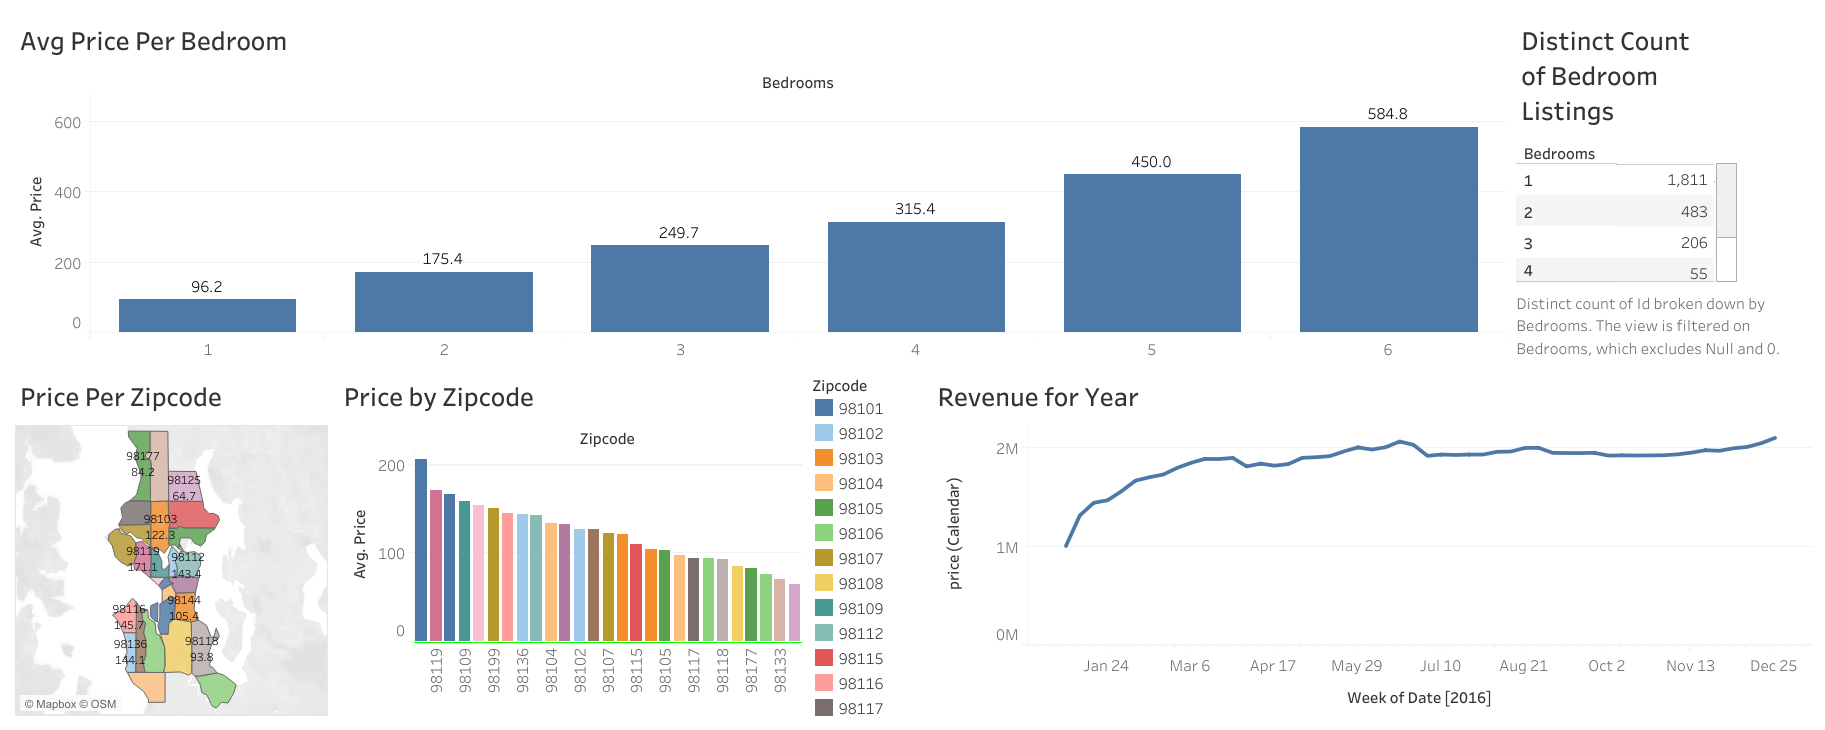

This screenshot's page, from the dashboard's own definition file:
{"tool":"tableau","page":{"name":"Dashboard 1","canvas":[1000,1000],"units":"permille","ordinal":0},"visuals":[{"type":"worksheet","title":"Sheet 4","mark":"Automatic","rows":["price"],"cols":["bedrooms"],"box":[5.1,8.8,822.5,491.2]},{"type":"worksheet","title":"Sheet 5","mark":"Automatic","rows":["bedrooms"],"box":[827.5,8.8,167.4,491.2]},{"type":"worksheet","title":"Sheet 2","mark":"Multipolygon","box":[5.1,500,177.6,491.2]},{"type":"worksheet","title":"Sheet 1","mark":"Automatic","rows":["price"],"cols":["zipcode"],"box":[182.6,500,258.7,491.2]},{"type":"legend","title":"Sheet 1","param":"[federated.1gmuv9z1xw2sc414hofr61067qbf].[none:zipcode:ok]","box":[441.3,500,66.6,491.2]},{"type":"worksheet","title":"Sheet 3","mark":"Automatic","rows":["price (Calendar)"],"cols":["date"],"box":[507.9,500,487,491.2]}]}

Visuals, with their boxes on the dashboard's canvas, which has no fixed pixel size, in thousandths of its width and height (x1, y1, x2, y2). These are canvas units, not pixel positions in the 1825x730 screenshot, which may show the page scaled, cropped or inside an application window:
"Sheet 4" worksheet: bbox(5, 9, 828, 500)
"Sheet 5" worksheet: bbox(828, 9, 995, 500)
"Sheet 2" worksheet (Multipolygon marks): bbox(5, 500, 183, 991)
"Sheet 1" worksheet: bbox(183, 500, 441, 991)
"Sheet 1" legend: bbox(441, 500, 508, 991)
"Sheet 3" worksheet: bbox(508, 500, 995, 991)
